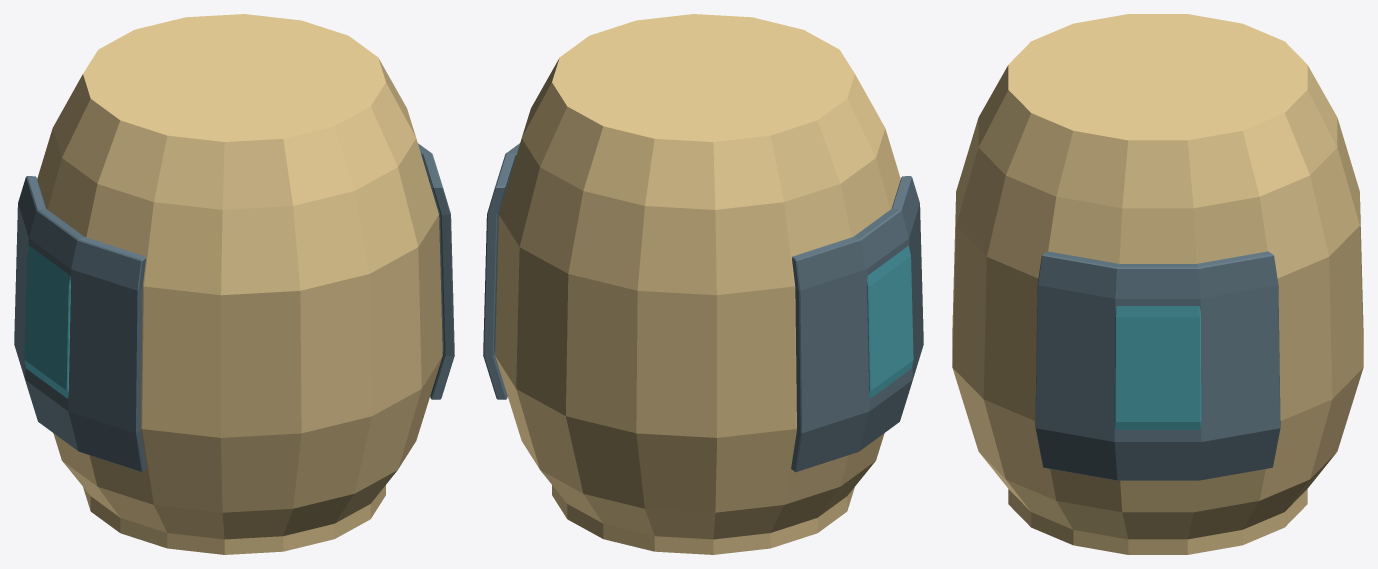
The model's file is ER_LanternCabin.fbx.
3 views of the same model, side by side, from view 1: azimuth 30°, elevation 25°; view 2: azimuth 150°, elevation 25°; view 3: azimuth 270°, elevation 25° (orthographic).
Visible parts, largest first — view 1: ER_LanternCabin; view 2: ER_LanternCabin; view 3: ER_LanternCabin.
Part boxes in pixels (x1,y1,x2,y2): ER_LanternCabin: [14, 14, 454, 554]; ER_LanternCabin: [483, 14, 923, 554]; ER_LanternCabin: [952, 14, 1363, 554].
Size of the model in its own units: 1.15 by 1.2 by 1.08.
